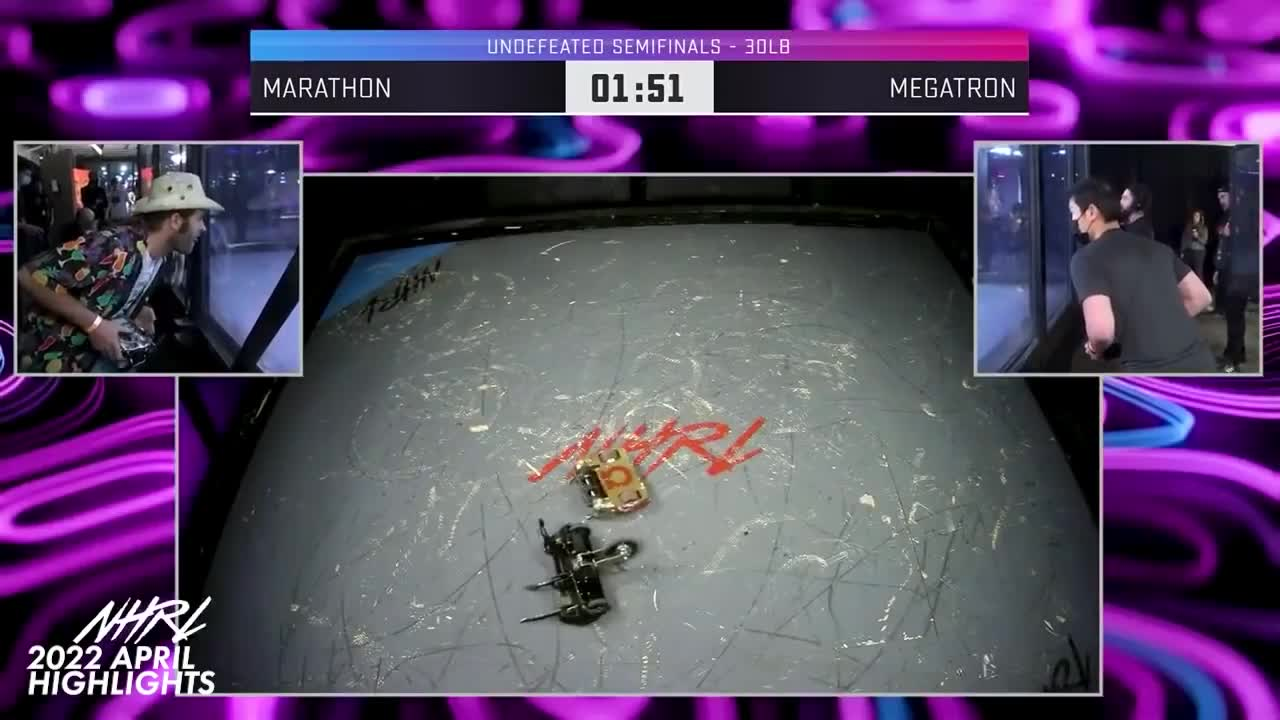combatbot: (522, 521, 640, 628), (576, 461, 653, 517)
